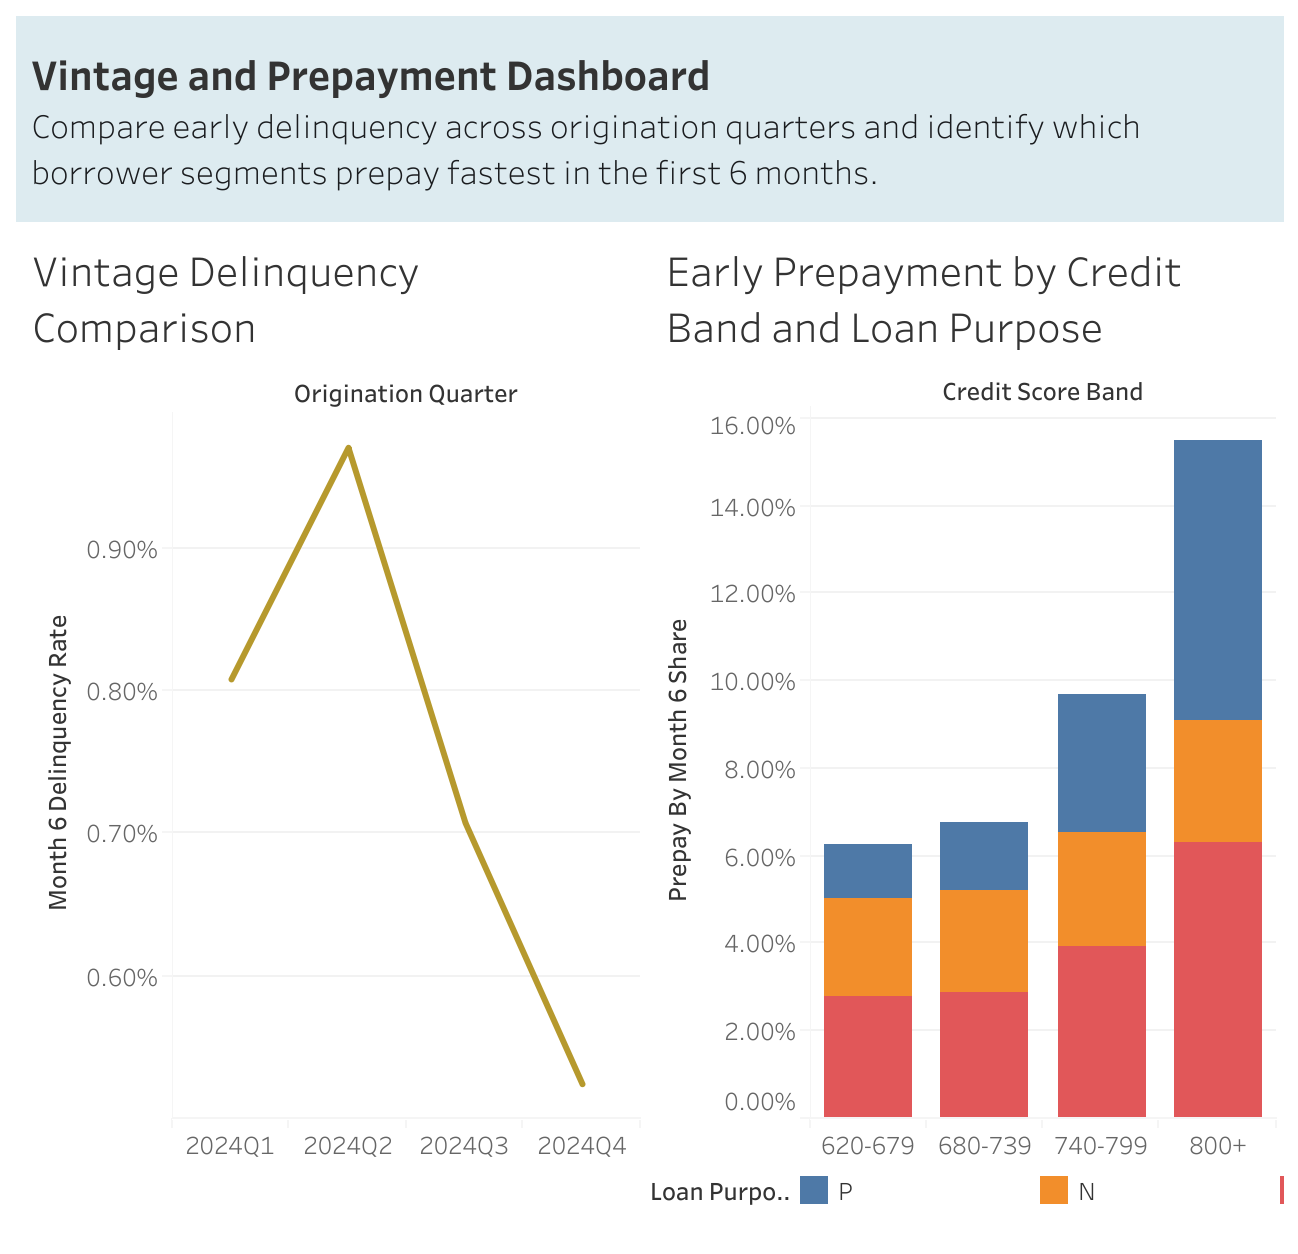

The dashboard page shown, as its layout file describes it:
{"tool":"tableau","page":{"name":"Vintage and Prepayment Dashboard","canvas":[650,860],"ordinal":3},"visuals":[{"type":"title","box":[8,9.3,634,119.9]},{"type":"worksheet","title":"Vintage Delinquency Comparison","mark":"Line","rows":["month_6_delinquency_rate"],"cols":["origination_quarter"],"box":[8,129.2,317,671.4]},{"type":"worksheet","title":"Early Prepayment by Credit Band and Loan Purpose","mark":"Automatic","rows":["prepay_by_month_6_share"],"cols":["credit_score_band"],"box":[325,129.2,317,671.4]},{"type":"blank","box":[8,800.6,317,50.1]},{"type":"legend","title":"Early Prepayment by Credit Band and Loan Purpose","param":"[federated.08s5tvf1dbl0bv1fr4qg61rmdjgz].[none:loan_purpose:nk]","box":[325,800.6,317,50.1]}]}

Visuals, with their boxes on the page's 650x860 design canvas (x1, y1, x2, y2). These are canvas units, not pixel positions in the 1298x1254 screenshot, which may show the page scaled, cropped or inside an application window:
title: 8,9,642,129
"Vintage Delinquency Comparison" worksheet (Line marks): 8,129,325,801
"Early Prepayment by Credit Band and Loan Purpose" worksheet: 325,129,642,801
blank: 8,801,325,851
"Early Prepayment by Credit Band and Loan Purpose" legend: 325,801,642,851
